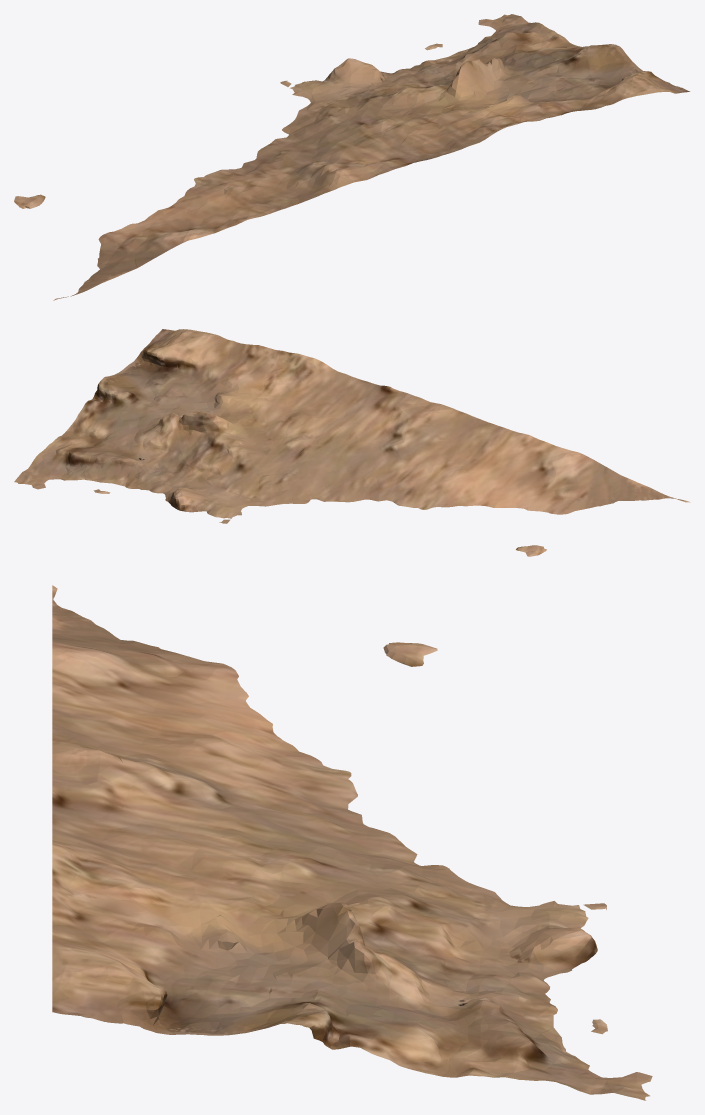
3 views of the same model, one above another, from view 1: azimuth 30°, elevation 25°; view 2: azimuth 150°, elevation 25°; view 3: azimuth 270°, elevation 25° (orthographic). The views are drawn at different scales.
Bounding box in the file's own units: 1.87 × 0.1787 × 0.9188.
Materials: 1 (1 with a texture image).
